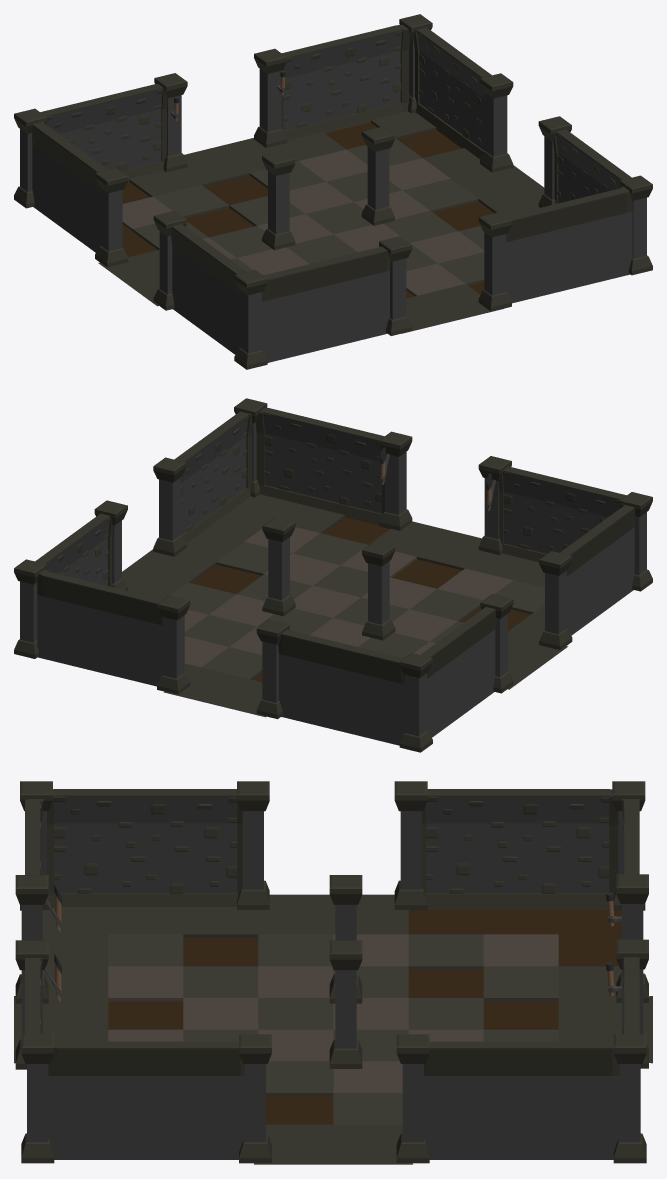
Rendered from Level2Roomlayout3.fbx.
3 views of the same model, one above another, from view 1: azimuth 30°, elevation 25°; view 2: azimuth 150°, elevation 25°; view 3: azimuth 270°, elevation 25° (orthographic). The views are drawn at different scales.
Parts seen in each view (by area): view 1: StonePiller.012, RoomFloor.012; view 2: StonePiller.012, RoomFloor.012; view 3: StonePiller.012, RoomFloor.012.
Part boxes in pixels (left/top/right/bottom): StonePiller.012: left=14, top=14, right=652, bottom=369; RoomFloor.012: left=98, top=111, right=544, bottom=333; StonePiller.012: left=14, top=398, right=652, bottom=752; RoomFloor.012: left=122, top=494, right=567, bottom=717; StonePiller.012: left=15, top=781, right=648, bottom=1163; RoomFloor.012: left=14, top=894, right=652, bottom=1164.
Size of the model in its own units: 796 by 164 by 796.
